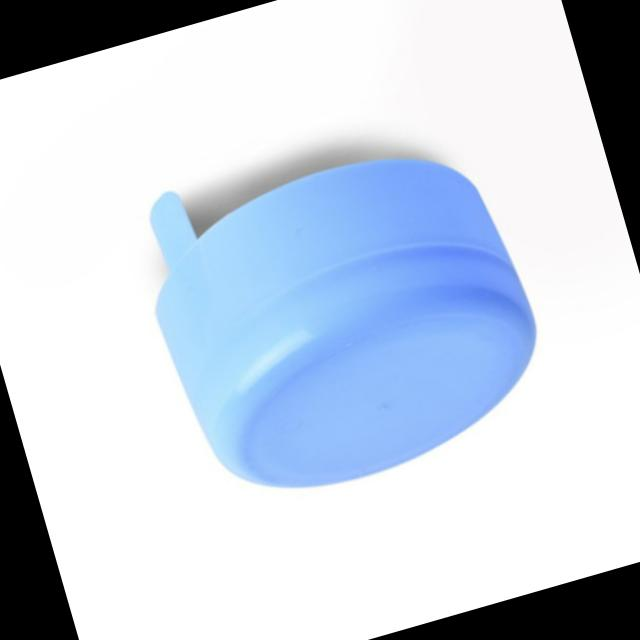TutupGalon: (121, 104, 566, 524)
